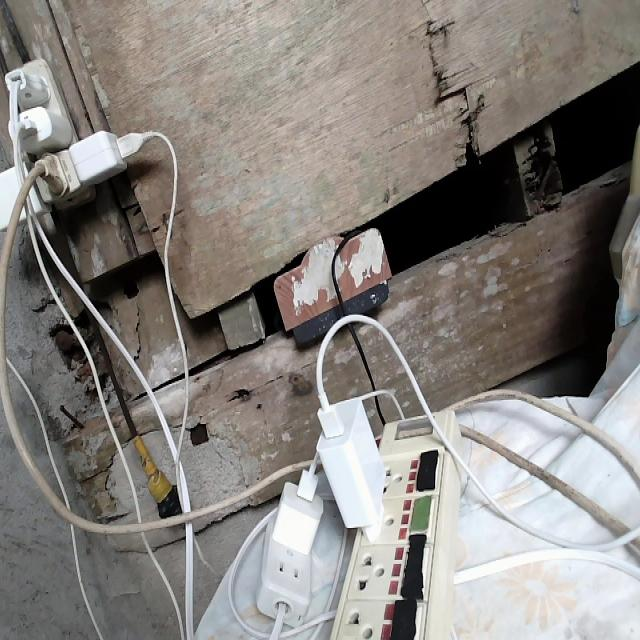-: (2, 56, 133, 227)
